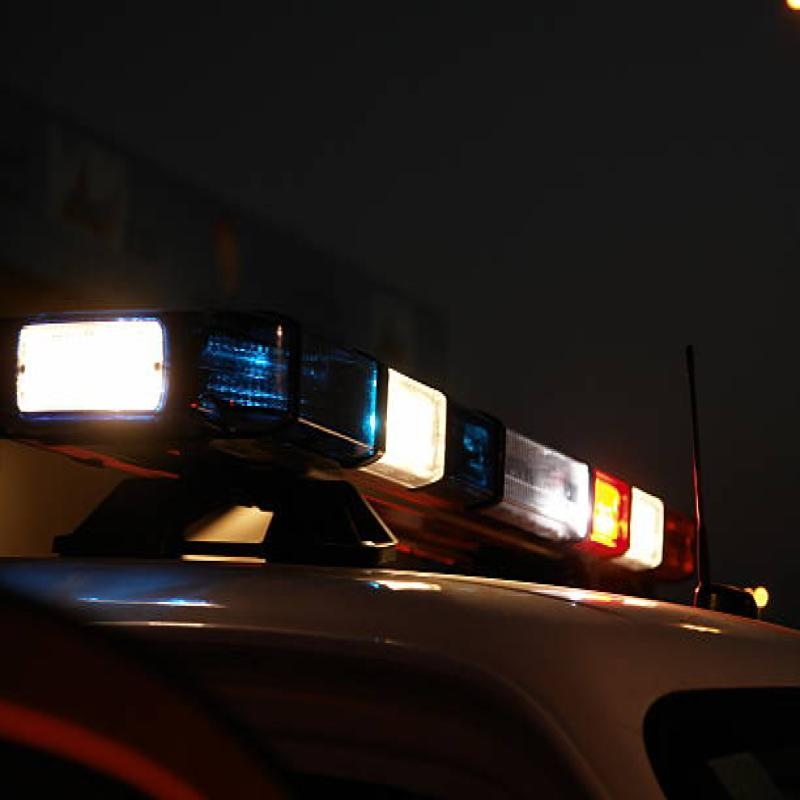AmbulanceSiren: (0, 297, 717, 606)
